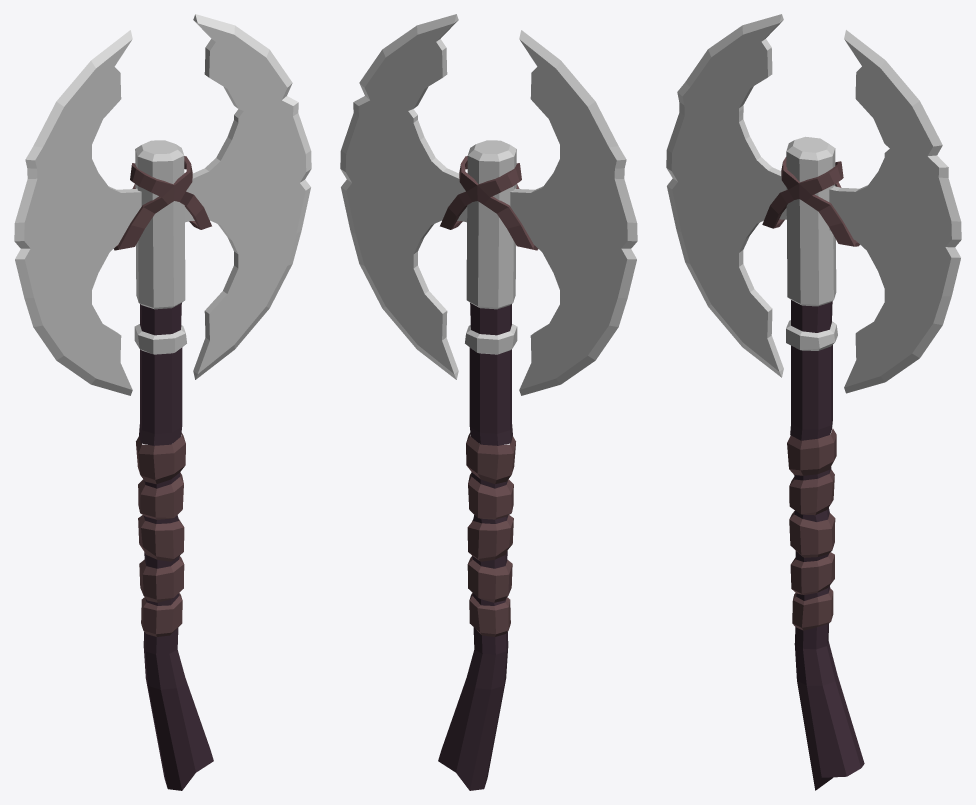
The model's file is q_axe_double.glb.
3 renders of one model, left to right at view 1: azimuth 30°, elevation 25°; view 2: azimuth 150°, elevation 25°; view 3: azimuth 330°, elevation 25°, orthographic.
Visible parts, largest first — view 1: Axe_Double; view 2: Axe_Double; view 3: Axe_Double.
Part boxes in pixels (x1,y1,x2,y2): Axe_Double: (14,14,311,790); Axe_Double: (340,14,637,790); Axe_Double: (666,14,961,790).
Size of the model in its own units: 0.4356 by 1.08 by 0.0677.
